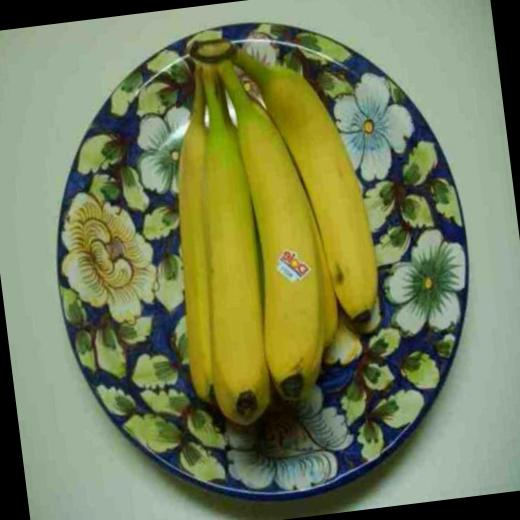Banana: (232, 39, 386, 332), (222, 51, 333, 406), (174, 62, 280, 431), (153, 72, 242, 407), (308, 212, 342, 346)
